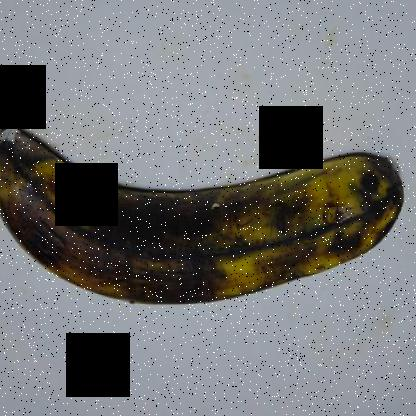overripe: (1, 96, 415, 325)
